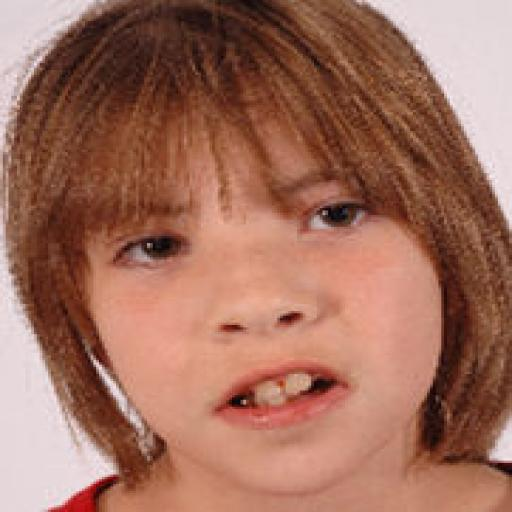Autism: (3, 8, 512, 478)
